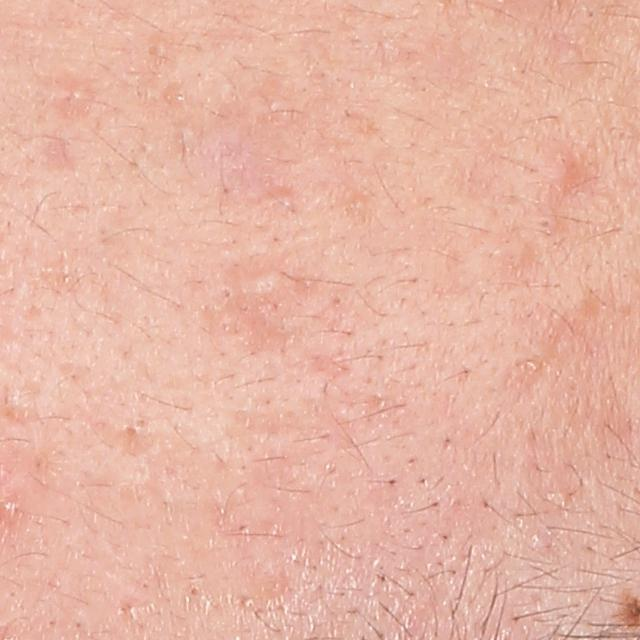comedo: (242, 264, 285, 307), (215, 284, 237, 305), (122, 421, 141, 440), (539, 213, 551, 230), (188, 583, 201, 598)
papule: (545, 144, 581, 186)
